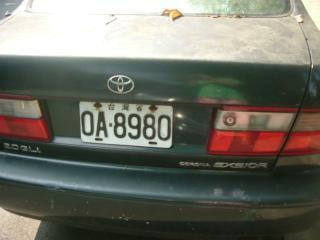plate: (77, 101, 175, 149)
